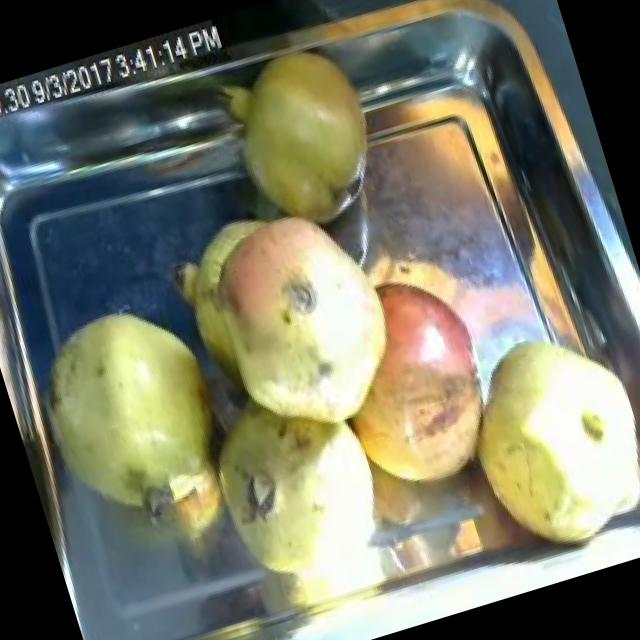fruit: (173, 172, 440, 476), (295, 244, 529, 526), (427, 297, 640, 590), (180, 364, 420, 616), (15, 274, 245, 510), (202, 25, 406, 256)
